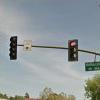Traffic light: (10, 32, 86, 68)
